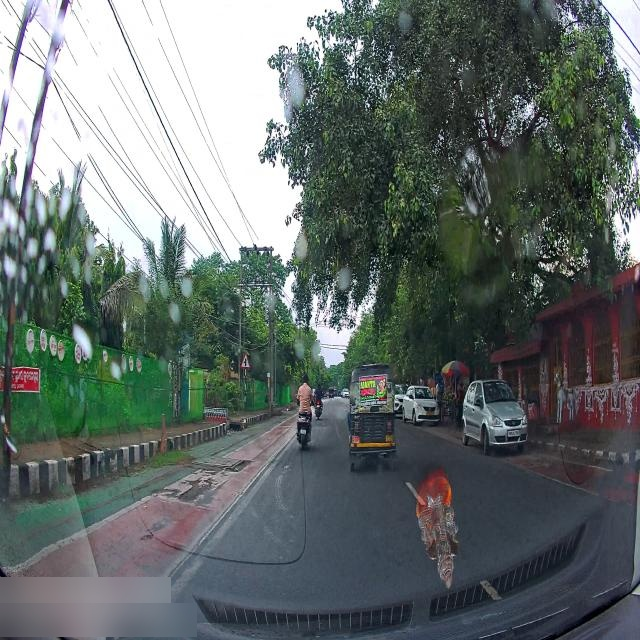pothole: (159, 478, 219, 504), (199, 462, 253, 474)
